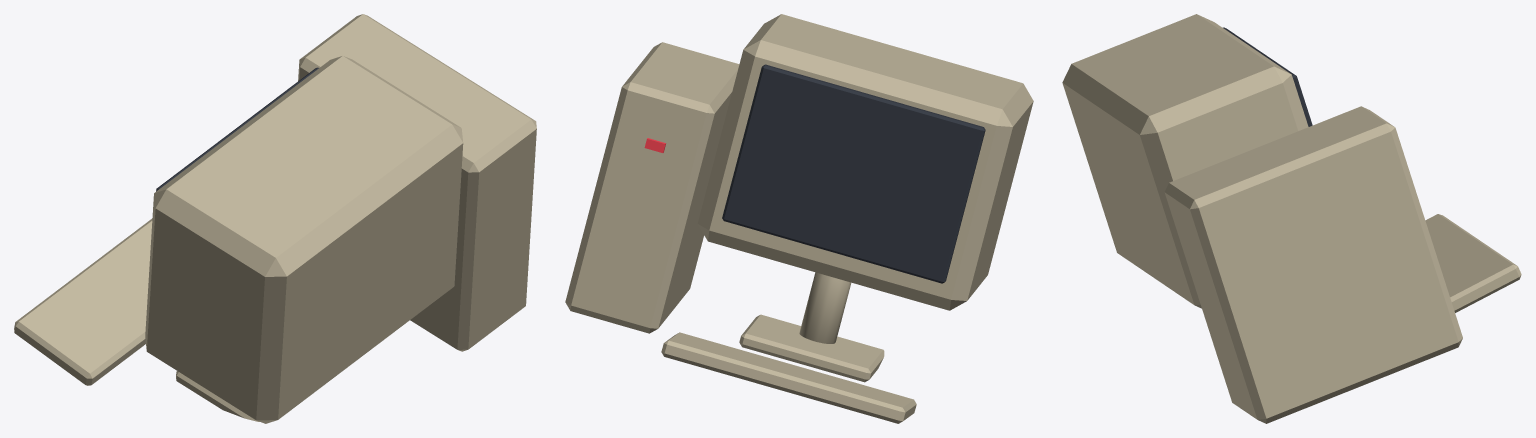
The model's file is prop_desktop_computer_damaged.obj.
3 renders of one model, left to right at view 1: azimuth 30°, elevation 25°; view 2: azimuth 150°, elevation 25°; view 3: azimuth 270°, elevation 25°, orthographic. The views are drawn at different scales.
Visible parts, largest first — view 1: MonitorShell, Tower, Keyboard, StandBase, Screen; view 2: Screen, MonitorShell, Tower, Keyboard, StandBase, StandNeck; view 3: Tower, MonitorShell, Keyboard, Screen.
Part boxes in pixels (x1,y1,x2,y2): MonitorShell: (145, 56, 463, 423); Tower: (298, 14, 536, 351); Keyboard: (14, 218, 152, 385); StandBase: (176, 371, 259, 421); Screen: (156, 67, 318, 191); Screen: (722, 64, 985, 283); MonitorShell: (697, 14, 1033, 310); Tower: (565, 42, 739, 333); Keyboard: (661, 332, 916, 423); StandBase: (739, 314, 884, 382); StandNeck: (799, 272, 851, 343); Tower: (1164, 106, 1462, 423); MonitorShell: (1062, 14, 1308, 308); Keyboard: (1425, 214, 1521, 312); Screen: (1223, 27, 1312, 126).
Size of the model in its own units: 0.9343 by 0.687 by 0.9323.
